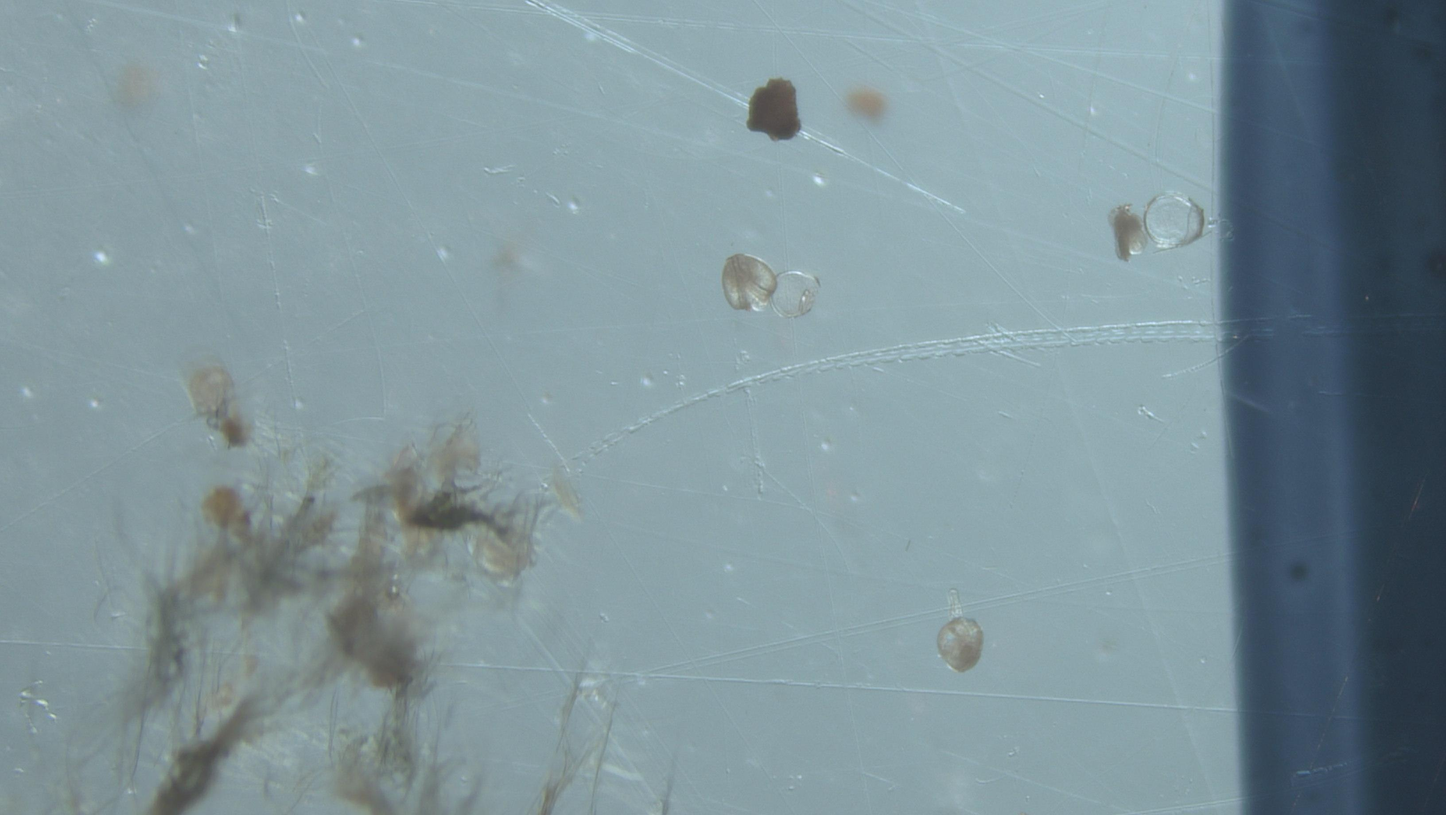live: (721, 254, 777, 311)
